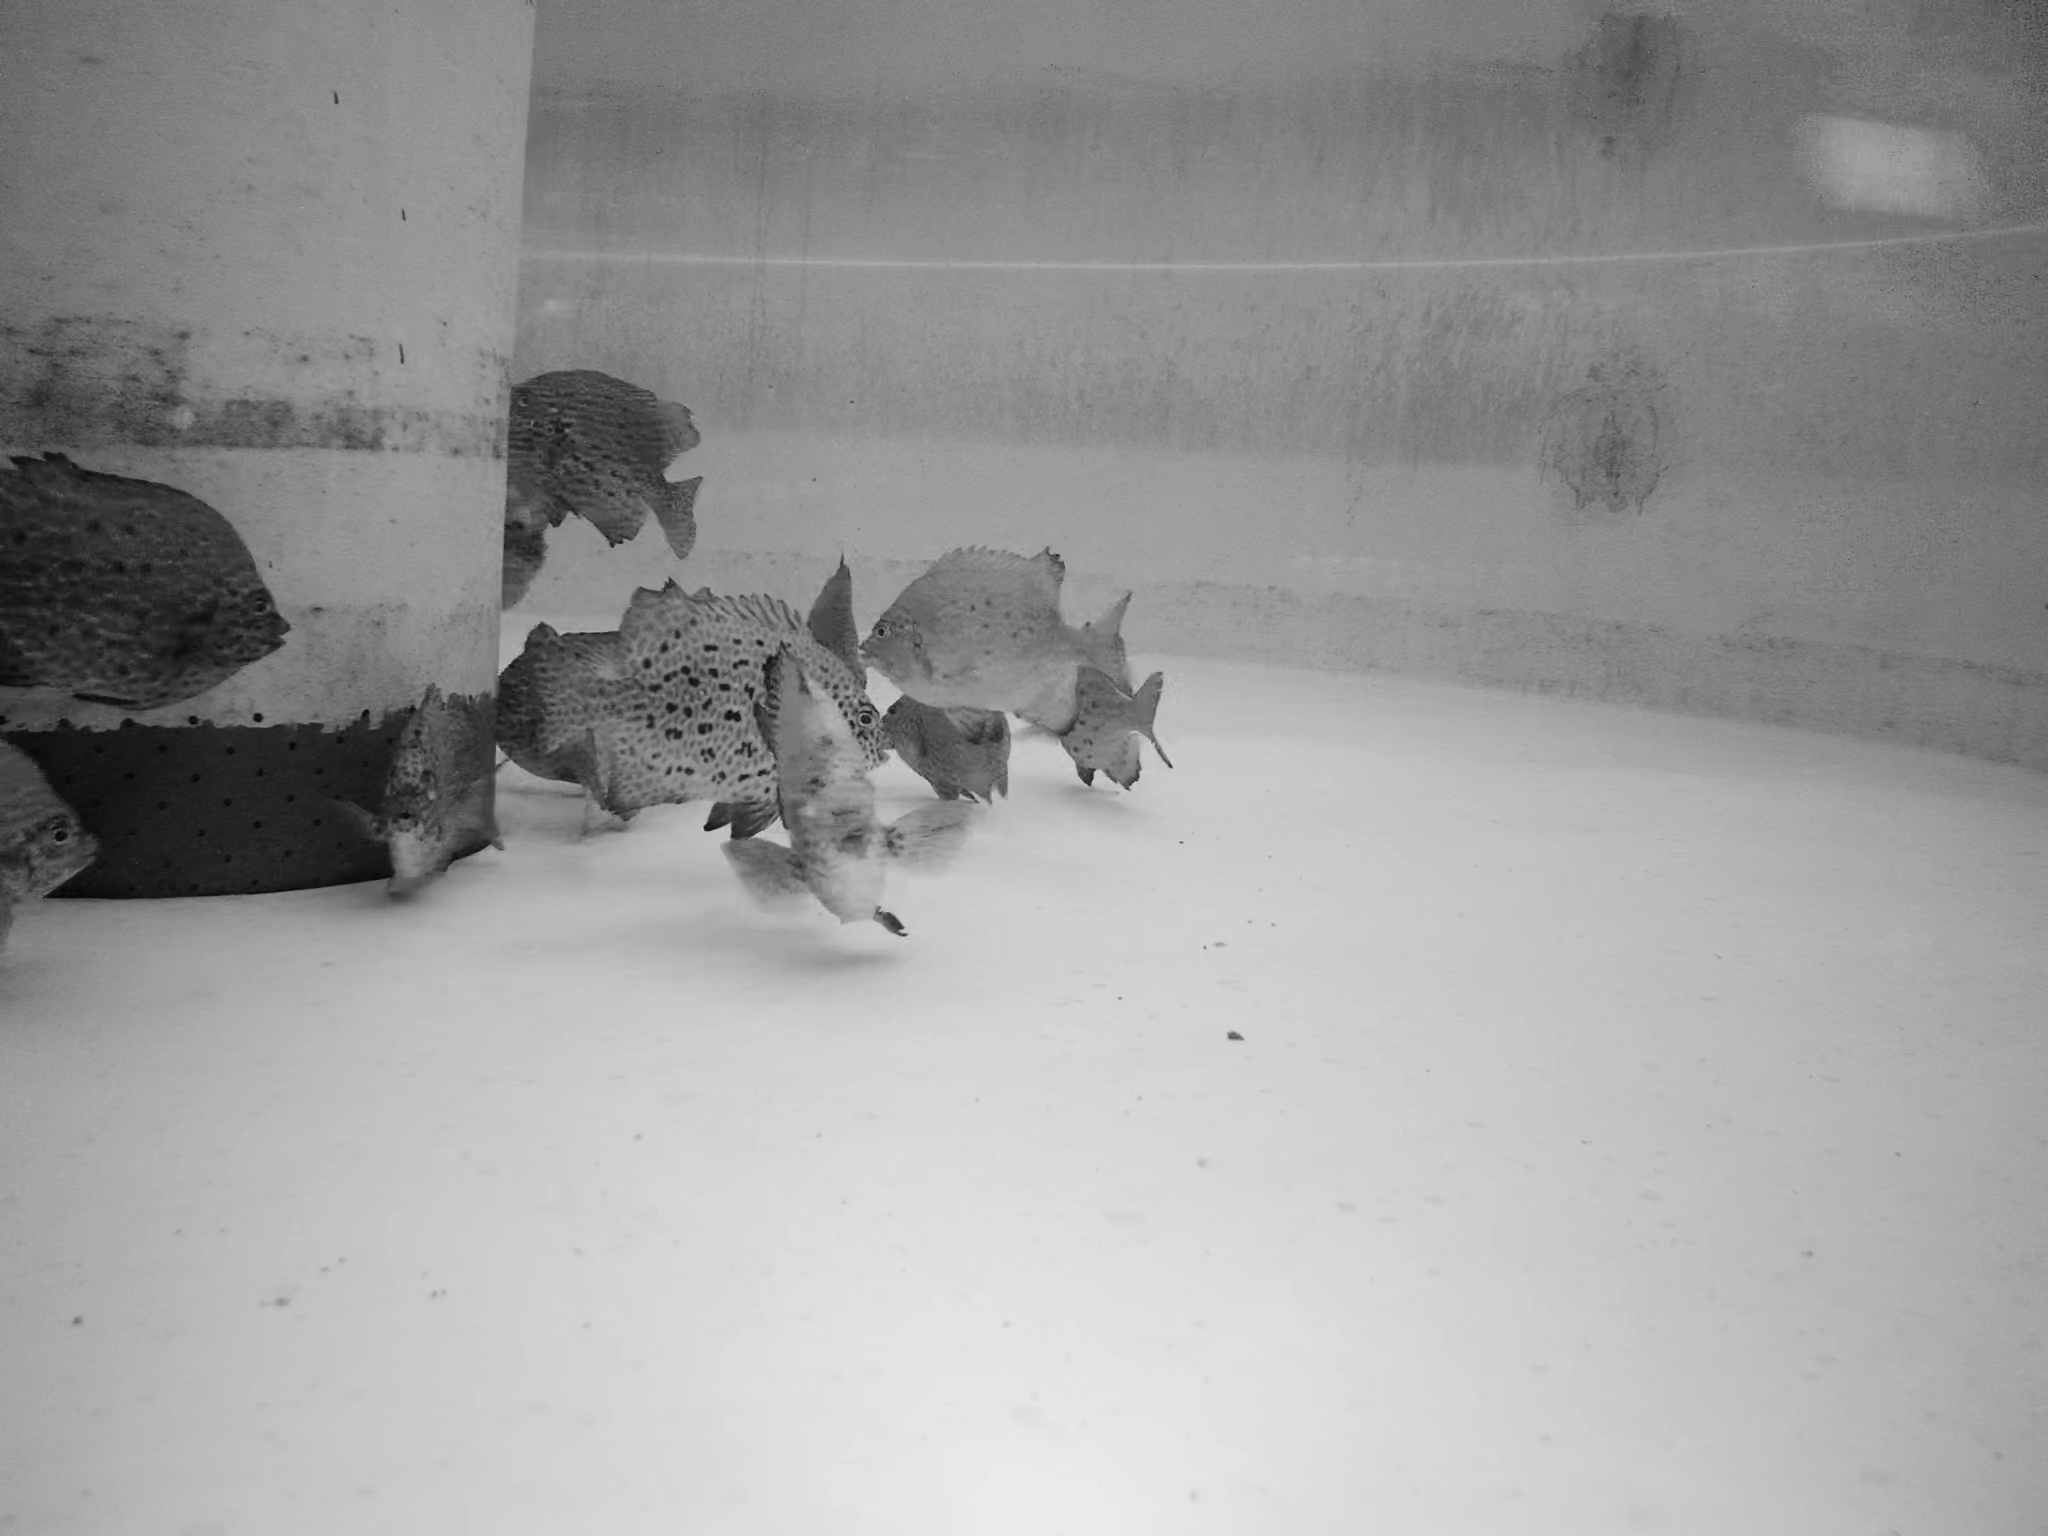fish: (2, 453, 298, 710), (522, 582, 858, 787), (713, 650, 916, 949), (866, 536, 1150, 729), (498, 357, 706, 558), (350, 692, 510, 883), (1026, 657, 1177, 795), (889, 682, 1029, 810), (2, 742, 94, 923)
